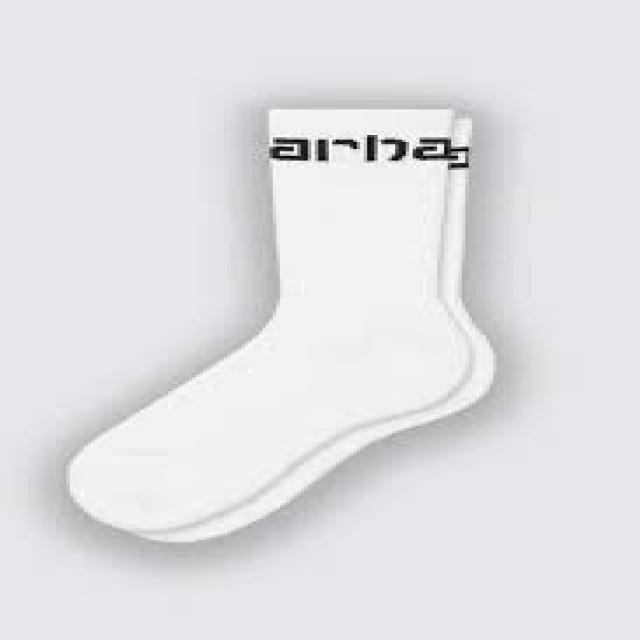sock: (63, 105, 497, 542)
